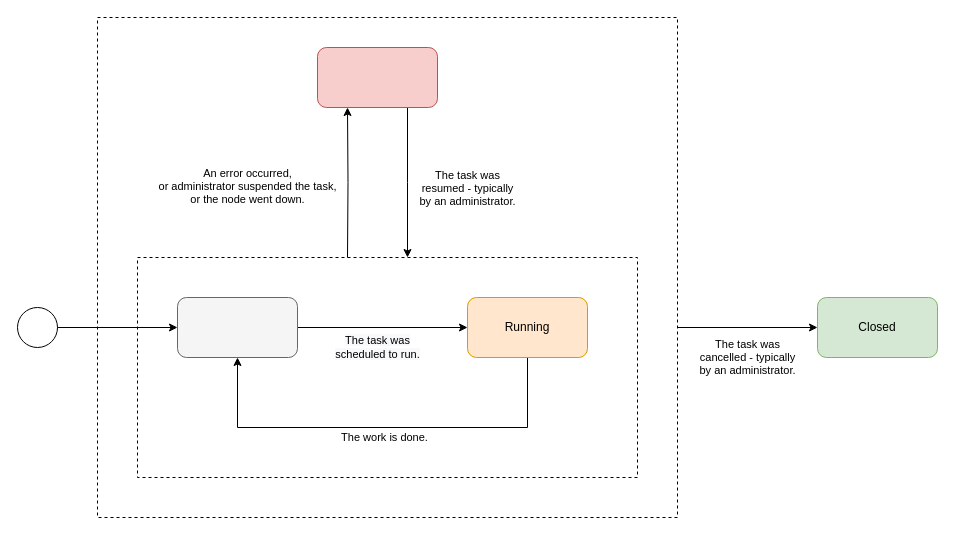
The diagram is 955 pixels wide and 535 high, and some of its shapes have lost their labels. The centre of each missing label's shape, as x and y in pixels:
"Runnable" goes at (237,327).
"Suspended" goes at (377,77).
